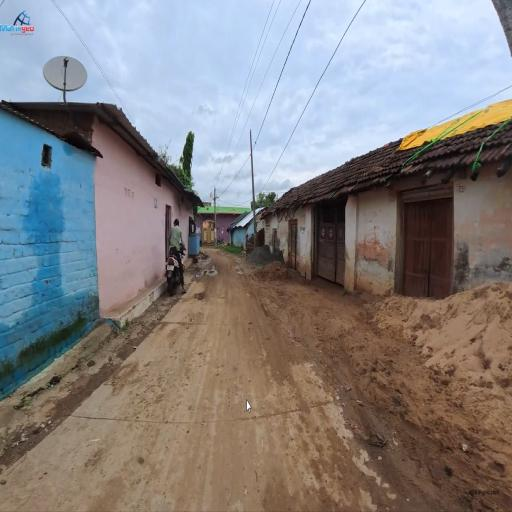longitudinal_crack: (93, 409, 285, 430)
